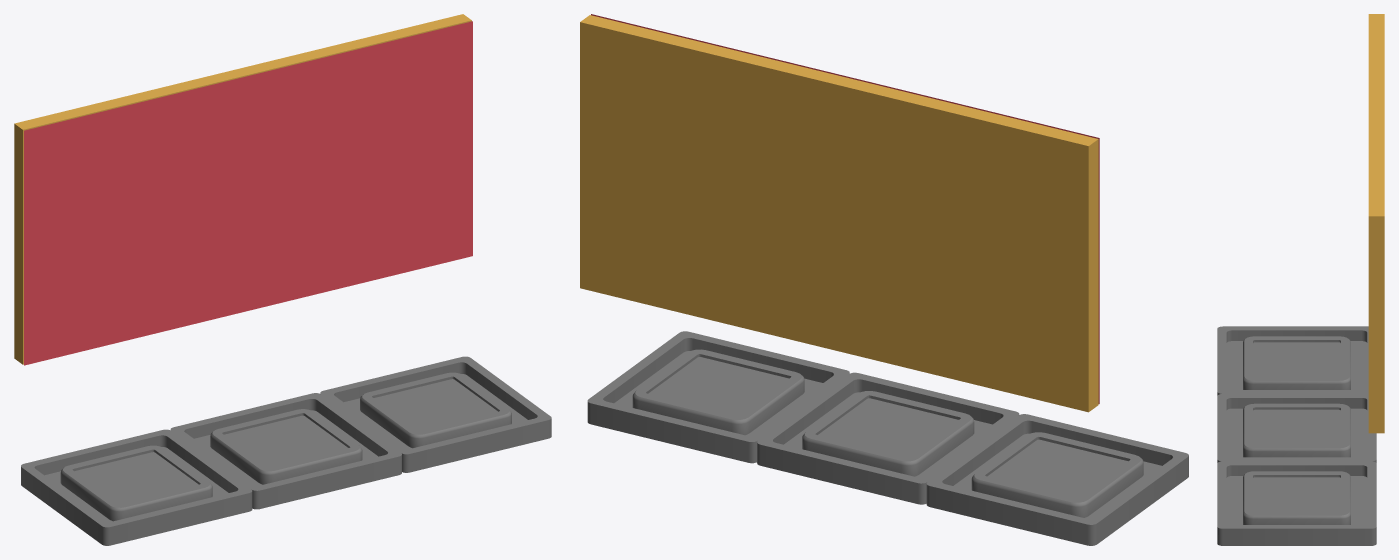
Rendered from EnigmaPorta.fbx.
3 views of the same model, side by side, from view 1: azimuth 30°, elevation 25°; view 2: azimuth 150°, elevation 25°; view 3: azimuth 270°, elevation 25° (orthographic). The views are drawn at different scales.
Visible parts, largest first — view 1: Immagine, Pietre, Pegamena; view 2: Pegamena, Pietre, Immagine; view 3: Pietre, Pegamena.
Part boxes in pixels (left/top/right/bottom): Immagine: left=24, top=21, right=472, bottom=365; Pietre: left=21, top=356, right=551, bottom=545; Pegamena: left=14, top=14, right=471, bottom=364; Pegamena: left=580, top=15, right=1098, bottom=412; Pietre: left=587, top=331, right=1188, bottom=545; Immagine: left=591, top=14, right=1099, bottom=403; Pietre: left=1217, top=326, right=1376, bottom=545; Pegamena: left=1368, top=14, right=1384, bottom=433.
Bounding box in the file's own units: 600 × 456 × 210.
